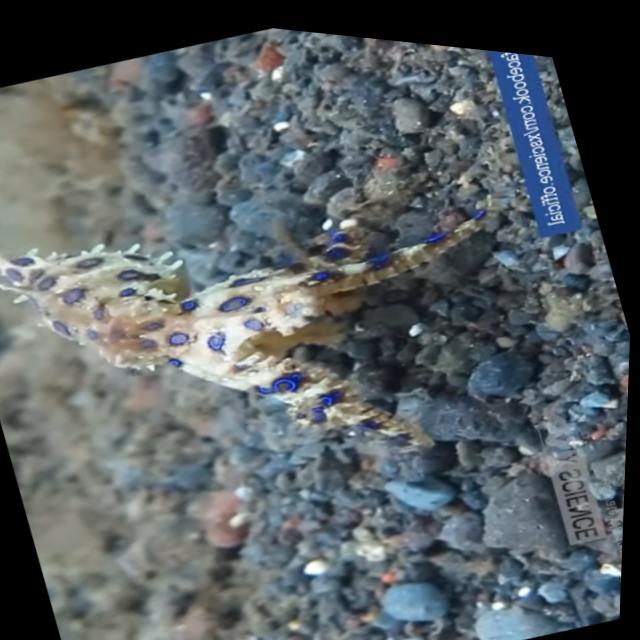blue_ringed_octopus: (0, 87, 571, 574)
